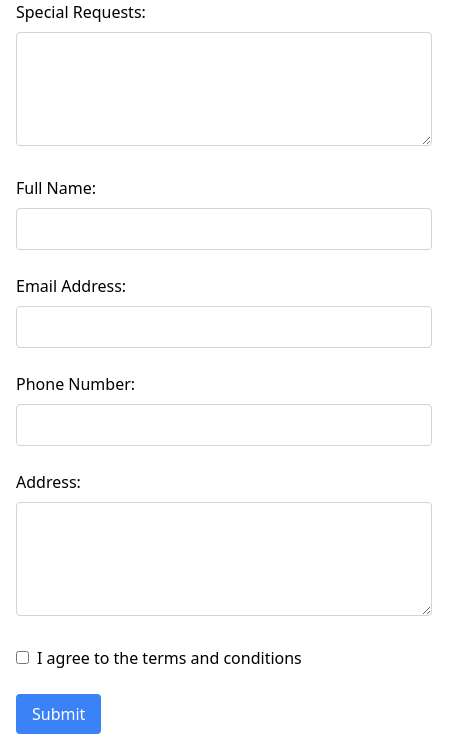
Test: Tests for Reservation form › check if email validation is there
The width and height of the screenshot is (449, 750).
(page scrolled)
Click the button "Submit" at x=59, y=714, box x1=16 y1=694 x2=101 y2=734
(page scrolled)
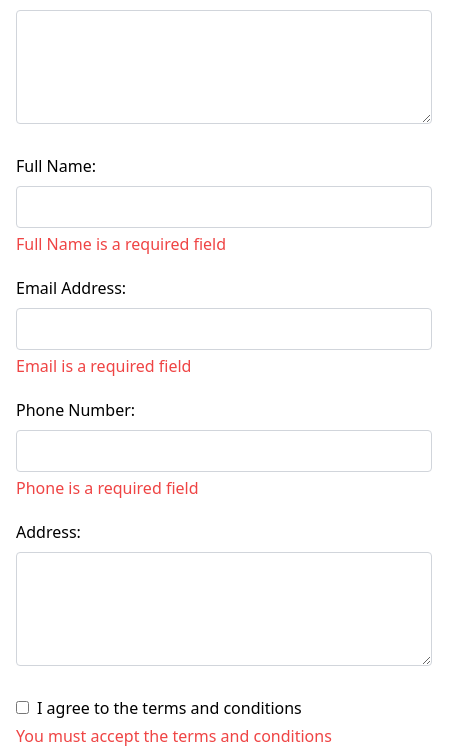
Expected: the text "Email is a required field" is shown, x1=16 y1=355 x2=192 y2=377
